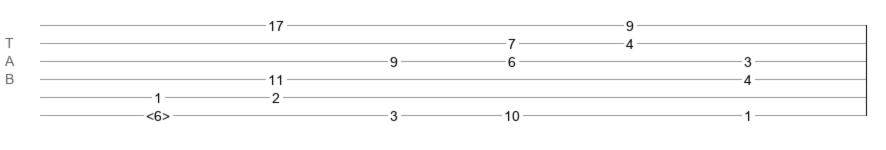1: (154, 90, 162, 100), (744, 108, 752, 118)
10: (504, 108, 520, 118)
11: (268, 72, 284, 82)
17: (268, 18, 284, 28)
2: (272, 90, 280, 100)
3: (390, 108, 398, 118), (744, 54, 752, 64)
4: (626, 36, 634, 46), (744, 72, 752, 82)
6: (508, 54, 516, 64)
7: (508, 36, 516, 46)
9: (390, 54, 398, 64), (626, 18, 634, 28)
harmonic: (146, 108, 170, 118)
